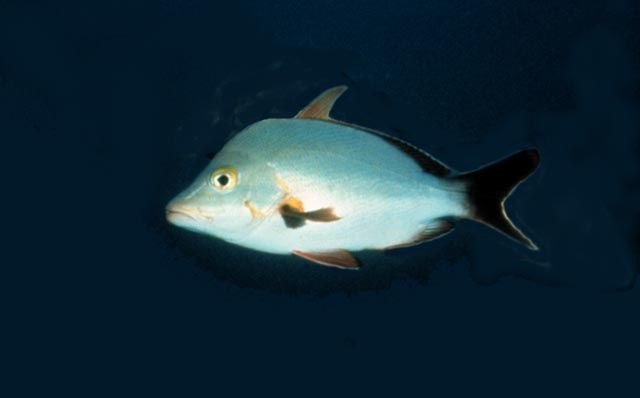fish: (165, 86, 542, 271)
